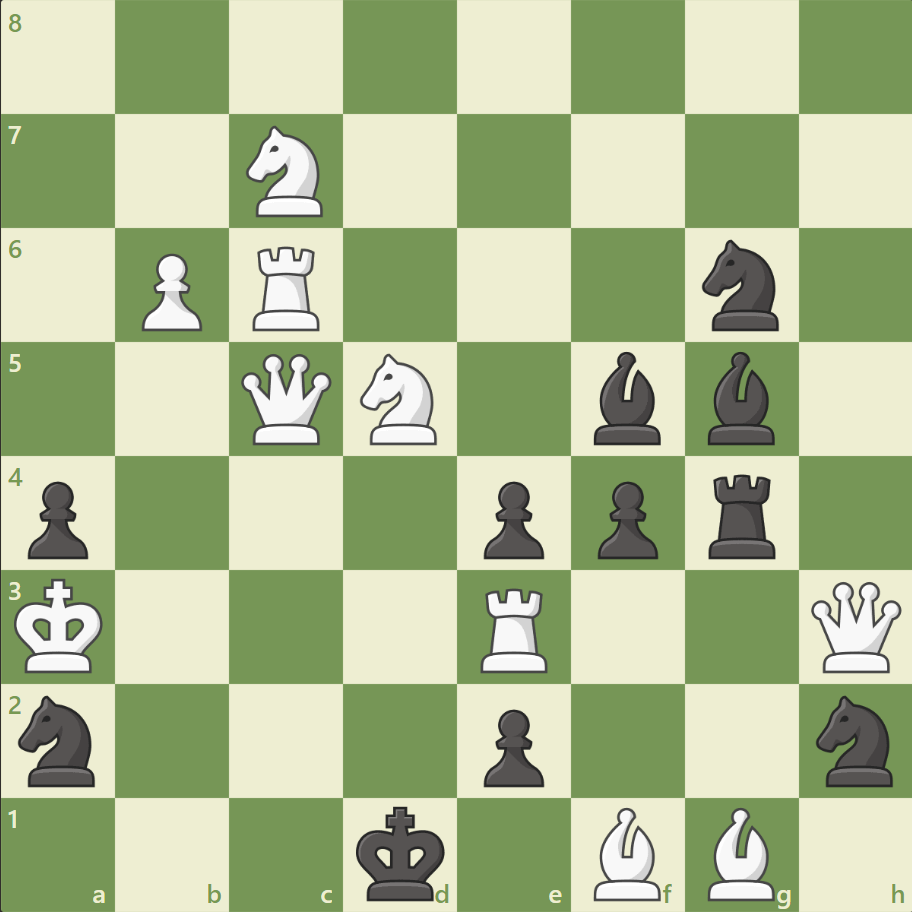B: (585, 801, 669, 904), (698, 801, 782, 904)
K: (11, 571, 111, 679)
N: (351, 348, 449, 450), (238, 121, 335, 223)
P: (133, 246, 208, 337)
Q: (237, 349, 336, 449), (805, 576, 904, 676)
R: (246, 239, 329, 336), (473, 579, 556, 676)
b: (585, 347, 669, 449), (698, 347, 782, 449)
k: (351, 798, 451, 906)
n: (692, 234, 789, 337), (11, 688, 108, 791), (806, 688, 903, 791)
p: (20, 473, 95, 564), (474, 473, 549, 564), (474, 700, 549, 791), (588, 473, 662, 564)
r: (700, 466, 783, 563)
